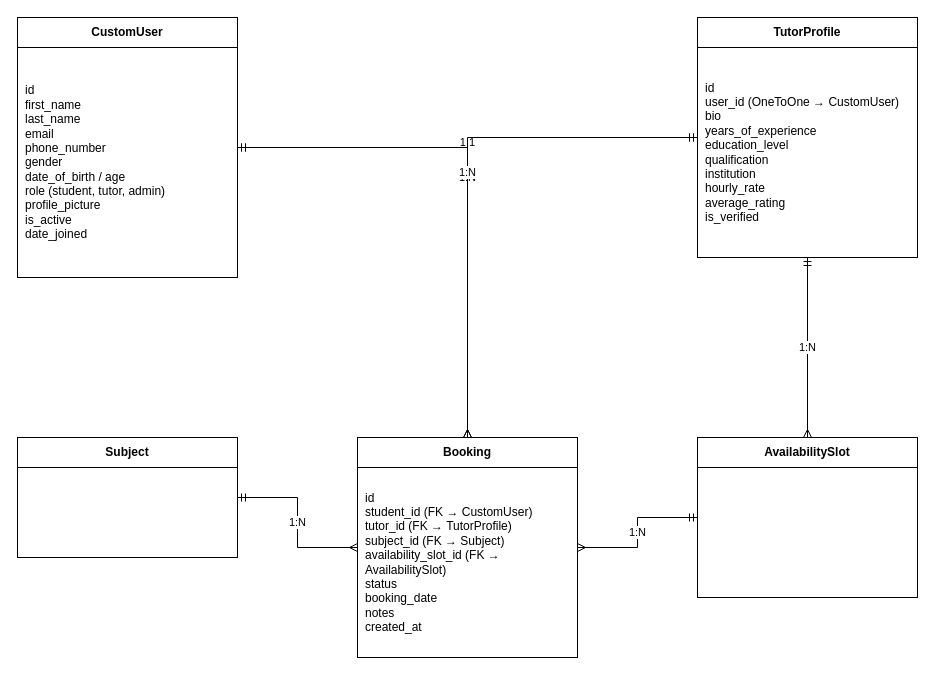
Image size: 935x675. Some labels were removed from this diagram. The box of each missing label's shape, as (x1, y1, x2, y2) in pixels:
id subject_name subject_code description: (16, 466, 238, 558)
id tutor_id (FK → TutorProfile) date start_time end_time is_available: (696, 466, 918, 598)
